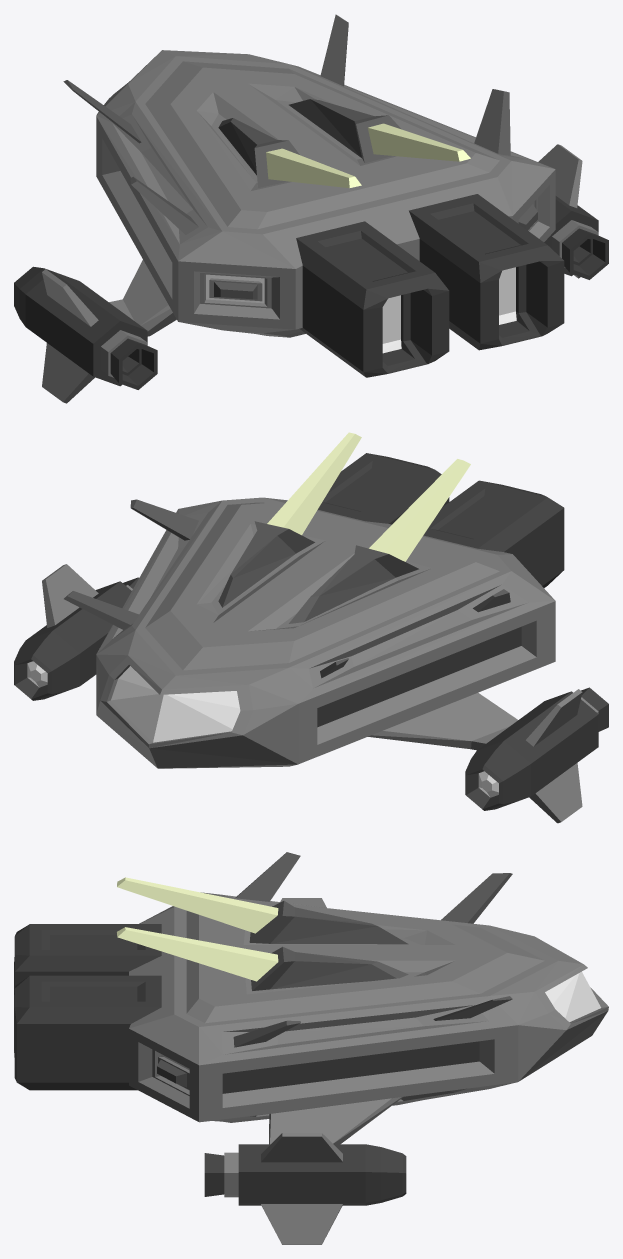
Rendered from LPSP_LuxuryShip.fbx.
The picture shows the model from 3 angles, top to bottom: view 1: azimuth 30°, elevation 25°; view 2: azimuth 150°, elevation 25°; view 3: azimuth 270°, elevation 25°; orthographic projection. The views are drawn at different scales.
Parts seen in each view (by area): view 1: Cube.002; view 2: Cube.002; view 3: Cube.002.
Part boxes in pixels (bbox=[...]): Cube.002: bbox=[14, 14, 608, 403]; Cube.002: bbox=[14, 432, 608, 823]; Cube.002: bbox=[14, 852, 608, 1244].
Size of the model in its own units: 874 by 383 by 922.
